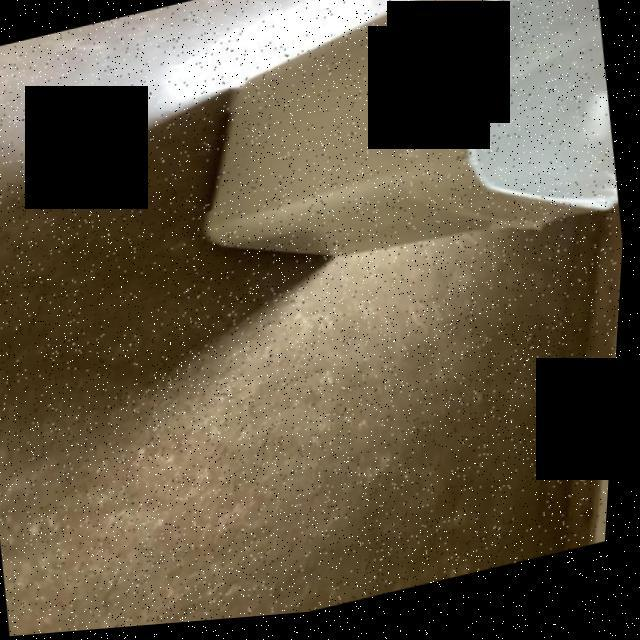bin: (149, 0, 637, 332)
